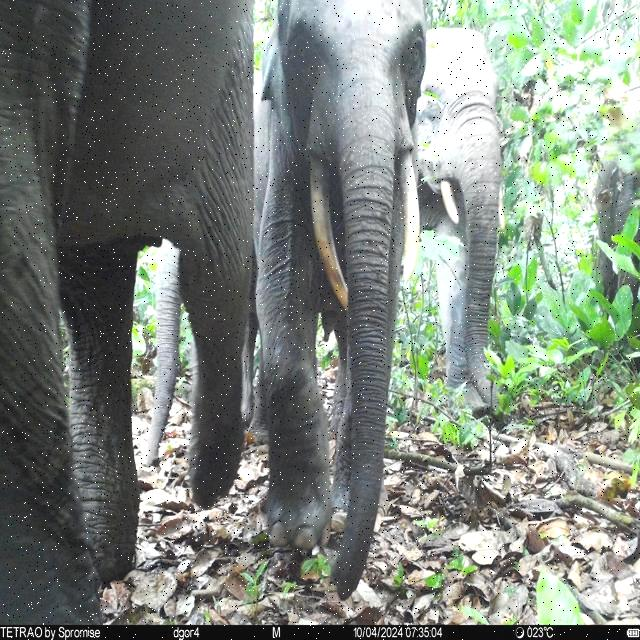elephant: (0, 0, 255, 623), (255, 0, 424, 601), (424, 25, 508, 419)
tusk: (309, 154, 350, 310), (396, 147, 419, 284), (436, 178, 460, 224)
